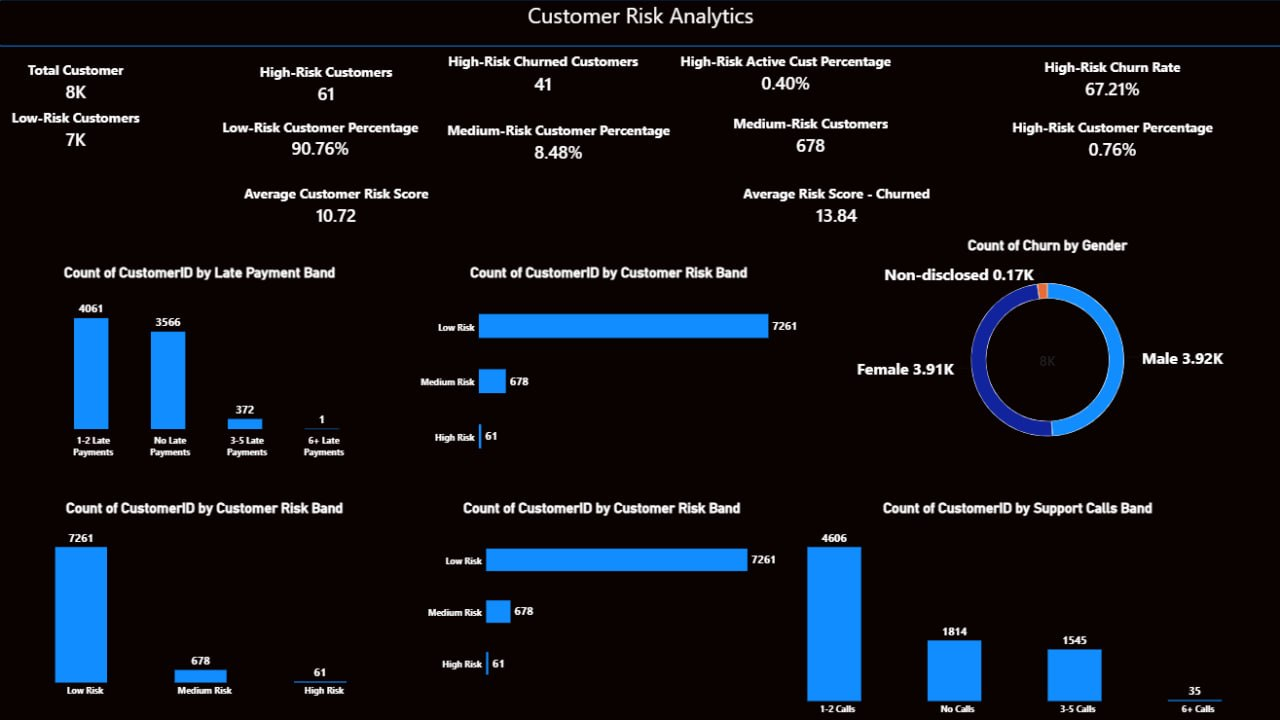

Layout of this report page (visuals, bound fields, positions):
{"tool":"powerbi","page":{"name":"Page 3","canvas":[2560,1440],"ordinal":2},"visuals":[{"type":"textbox","box":[10.5,0,2550.1,94.3],"z":0},{"type":"cardVisual","fields":{"Data":["DateTable.Total Customer"]},"box":[0,120.4,327.3,89],"z":1000},{"type":"cardVisual","fields":{"Data":["customer_churn_dataset.High-Risk Customers"]},"box":[489.6,123.1,340.4,91.6],"z":2000},{"type":"cardVisual","fields":{"Data":["customer_churn_dataset.High-Risk Churned Customers"]},"box":[874.5,99.5,434.6,99.5],"z":3000},{"type":"cardVisual","fields":{"Data":["DateTable.High-Risk Active Customer Percentage"]},"box":[1340.5,89,460.8,117.8],"z":4000},{"type":"cardVisual","fields":{"Data":["DateTable.High-Risk Churn Rate"]},"box":[1898.1,102.1,641.4,115.2],"z":5000},{"type":"cardVisual","fields":{"Data":["DateTable.High-Risk Customer Percentage"]},"box":[1971.5,217.3,497.4,123.1],"z":6000},{"type":"cardVisual","fields":{"Data":["customer_churn_dataset.Medium-Risk Customers"]},"box":[1426.9,225.2,390.1,94.3],"z":7000},{"type":"cardVisual","fields":{"Data":["DateTable.Medium-Risk Customer Percentage"]},"box":[853.5,243.5,534.1,83.8],"z":8000},{"type":"cardVisual","fields":{"Data":["customer_churn_dataset.Low-Risk Customers"]},"box":[0,209.5,327.3,99.5],"z":9000},{"type":"cardVisual","fields":{"Data":["DateTable.Low-Risk Customer Percentage"]},"box":[434.6,230.4,429.4,96.9],"z":10000},{"type":"cardVisual","fields":{"Data":["DateTable.Average Customer Risk Score"]},"box":[434.6,361.3,492.2,96.9],"z":11000},{"type":"cardVisual","fields":{"Data":["DateTable.Average Risk Score - Churned"]},"box":[1340.5,361.3,662.4,96.9],"z":12000},{"type":"columnChart","fields":{"Category":["customer_churn_dataset.Customer Risk Band"],"Y":["CountNonNull(customer_churn_dataset.CustomerID)"]},"box":[13.1,979.2,814.2,424.1],"z":13000},{"type":"clusteredBarChart","fields":{"Category":["customer_churn_dataset.Customer Risk Band"],"Y":["CountNonNull(customer_churn_dataset.CustomerID)"]},"box":[845.7,979.2,725.2,424.1],"z":14000},{"type":"columnChart","fields":{"Category":["customer_churn_dataset.Support Calls Band"],"Y":["CountNonNull(customer_churn_dataset.CustomerID)"]},"box":[1503.2,979.6,1056.8,460.9],"z":15000},{"type":"columnChart","fields":{"Category":["customer_churn_dataset.Late Payment Band"],"Y":["CountNonNull(customer_churn_dataset.CustomerID)"]},"box":[47.1,510.5,722.6,416.3],"z":16000},{"type":"barChart","fields":{"Category":["customer_churn_dataset.Customer Risk Band"],"Y":["CountNonNull(customer_churn_dataset.CustomerID)"]},"box":[829.9,510.5,781.8,446.4],"z":17000},{"type":"donutChart","fields":{"Category":["customer_churn_dataset.Gender"],"Y":["CountNonNull(customer_churn_dataset.Churn)"]},"box":[1644.2,458.2,895.4,468.6],"z":17001}]}

Visuals, with their boxes in screenshot pixels (x1, y1, x2, y2), scaled from the page's 2560x1440 canvas onto the 1280x720 screenshot:
textbox: pyautogui.locateOnScreen(5, 0, 1279, 47)
cardVisual - DateTable.Total Customer: pyautogui.locateOnScreen(0, 60, 164, 105)
cardVisual - customer_churn_dataset.High-Risk Customers: pyautogui.locateOnScreen(245, 62, 415, 107)
cardVisual - customer_churn_dataset.High-Risk Churned Customers: pyautogui.locateOnScreen(437, 50, 655, 100)
cardVisual - DateTable.High-Risk Active Customer Percentage: pyautogui.locateOnScreen(670, 44, 901, 103)
cardVisual - DateTable.High-Risk Churn Rate: pyautogui.locateOnScreen(949, 51, 1270, 109)
cardVisual - DateTable.High-Risk Customer Percentage: pyautogui.locateOnScreen(986, 109, 1234, 170)
cardVisual - customer_churn_dataset.Medium-Risk Customers: pyautogui.locateOnScreen(713, 113, 908, 160)
cardVisual - DateTable.Medium-Risk Customer Percentage: pyautogui.locateOnScreen(427, 122, 694, 164)
cardVisual - customer_churn_dataset.Low-Risk Customers: pyautogui.locateOnScreen(0, 105, 164, 154)
cardVisual - DateTable.Low-Risk Customer Percentage: pyautogui.locateOnScreen(217, 115, 432, 164)
cardVisual - DateTable.Average Customer Risk Score: pyautogui.locateOnScreen(217, 181, 463, 229)
cardVisual - DateTable.Average Risk Score - Churned: pyautogui.locateOnScreen(670, 181, 1001, 229)
columnChart - customer_churn_dataset.Customer Risk Band x CountNonNull(customer_churn_dataset.CustomerID): pyautogui.locateOnScreen(7, 490, 414, 702)
clusteredBarChart - customer_churn_dataset.Customer Risk Band x CountNonNull(customer_churn_dataset.CustomerID): pyautogui.locateOnScreen(423, 490, 785, 702)
columnChart - customer_churn_dataset.Support Calls Band x CountNonNull(customer_churn_dataset.CustomerID): pyautogui.locateOnScreen(752, 490, 1279, 719)
columnChart - customer_churn_dataset.Late Payment Band x CountNonNull(customer_churn_dataset.CustomerID): pyautogui.locateOnScreen(24, 255, 385, 463)
barChart - customer_churn_dataset.Customer Risk Band x CountNonNull(customer_churn_dataset.CustomerID): pyautogui.locateOnScreen(415, 255, 806, 478)
donutChart - customer_churn_dataset.Gender x CountNonNull(customer_churn_dataset.Churn): pyautogui.locateOnScreen(822, 229, 1270, 463)
